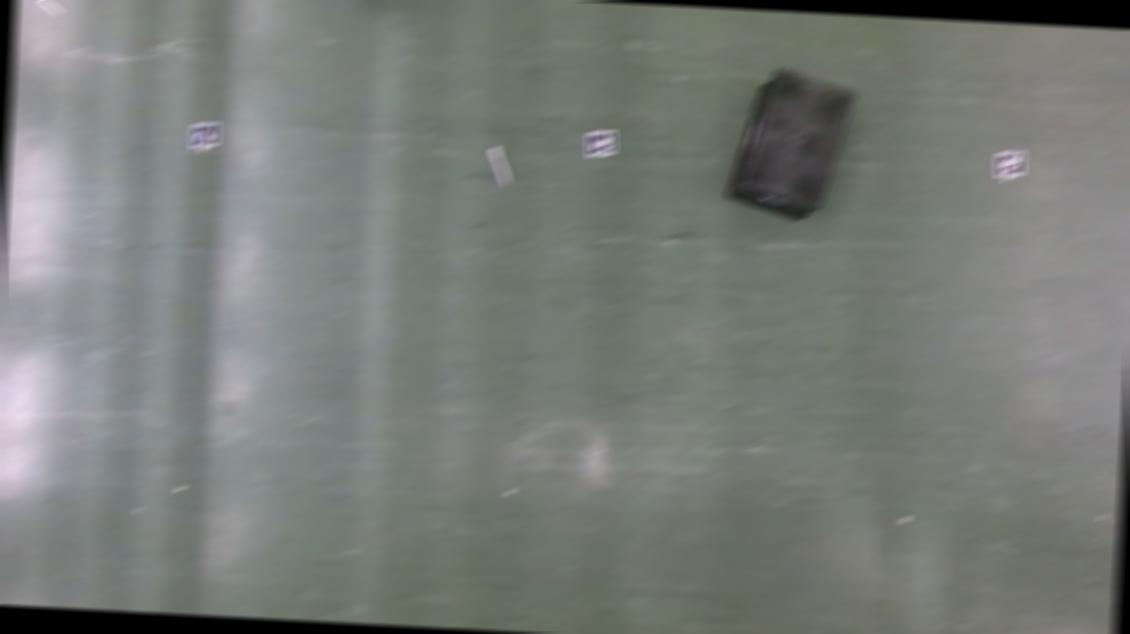probes: (488, 148, 510, 188), (23, 1, 65, 18)
rako: (724, 68, 859, 224)
